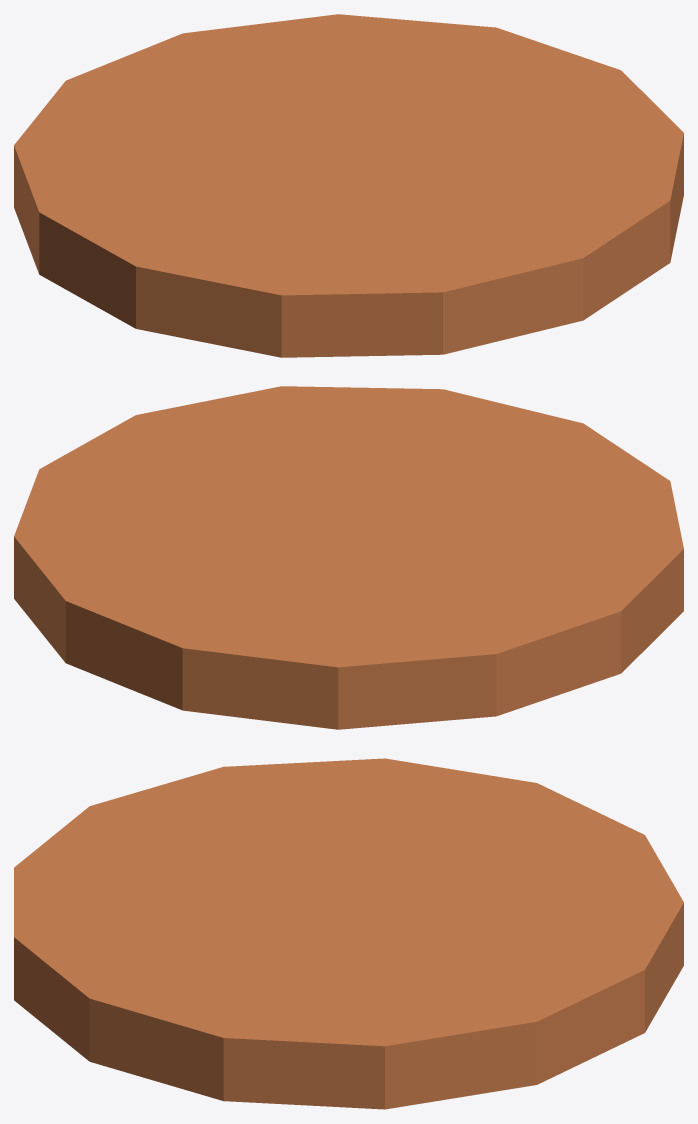
The model's file is HamCollider.fbx.
The picture shows the model from 3 angles, top to bottom: view 1: azimuth 30°, elevation 25°; view 2: azimuth 150°, elevation 25°; view 3: azimuth 270°, elevation 25°; orthographic projection.
Parts seen in each view (by area): view 1: Cylinder.001; view 2: Cylinder.001; view 3: Cylinder.001.
Boxes of the visible parts, x1,y1,x2,y2 form: Cylinder.001: [14, 14, 683, 357]; Cylinder.001: [14, 386, 683, 729]; Cylinder.001: [14, 758, 683, 1109].
Size of the model in its own units: 87.77 by 8.99 by 86.33.
